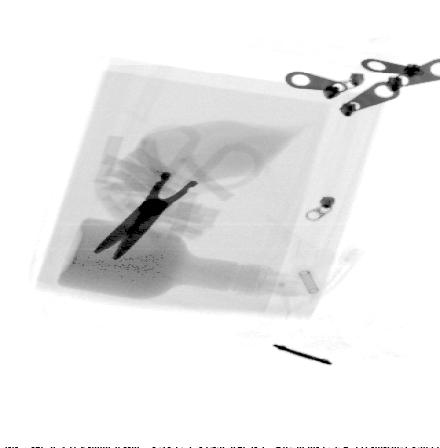Scissors: (90, 125, 266, 263)
